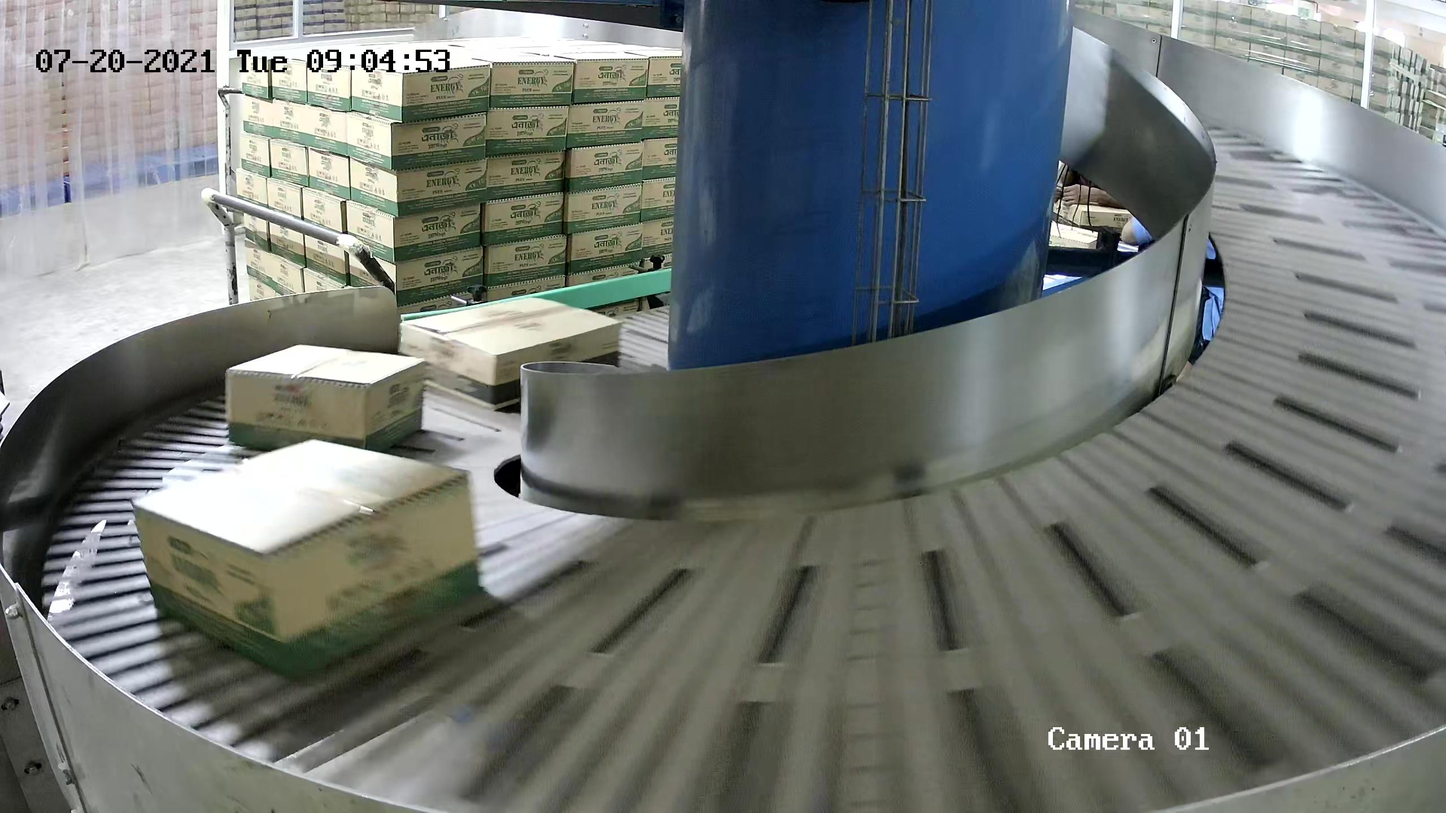Box: (128, 436, 482, 680), (397, 296, 624, 411), (225, 343, 427, 454)
